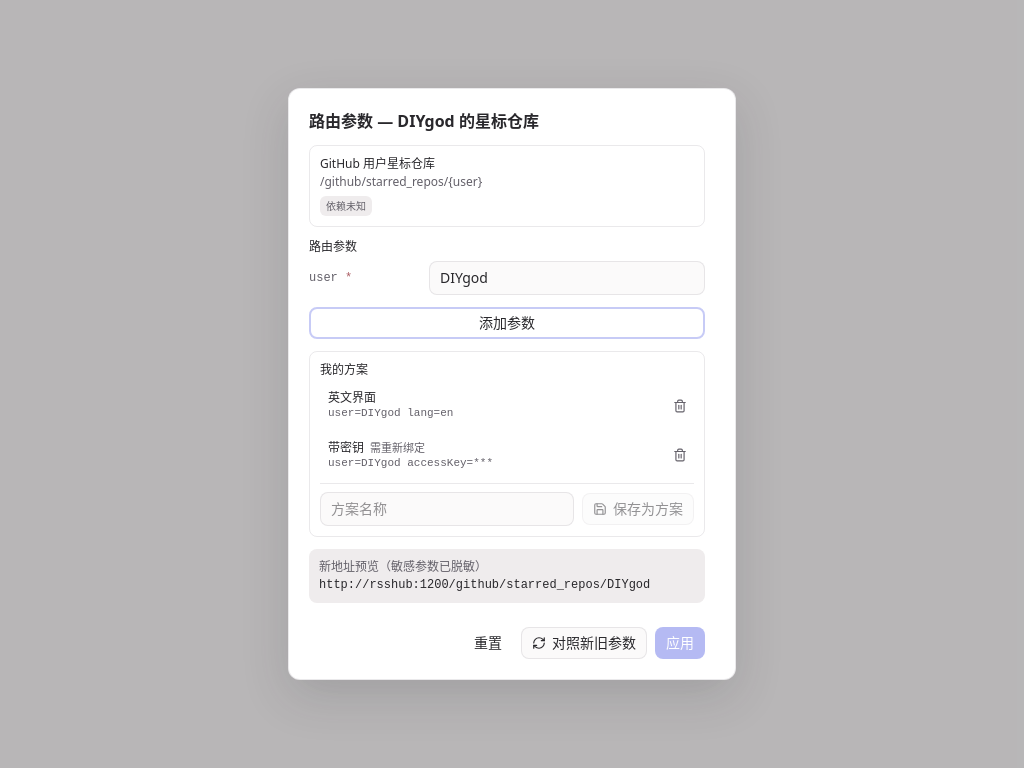
F047 — N030 我的方案 › 应用含敏感参数的方案：哨兵不回填，必须重新输入后才能预览
This screenshot has width=1024, height=768.
Click the text "带密钥" at coordinates (376, 447), box [328, 438, 425, 456]
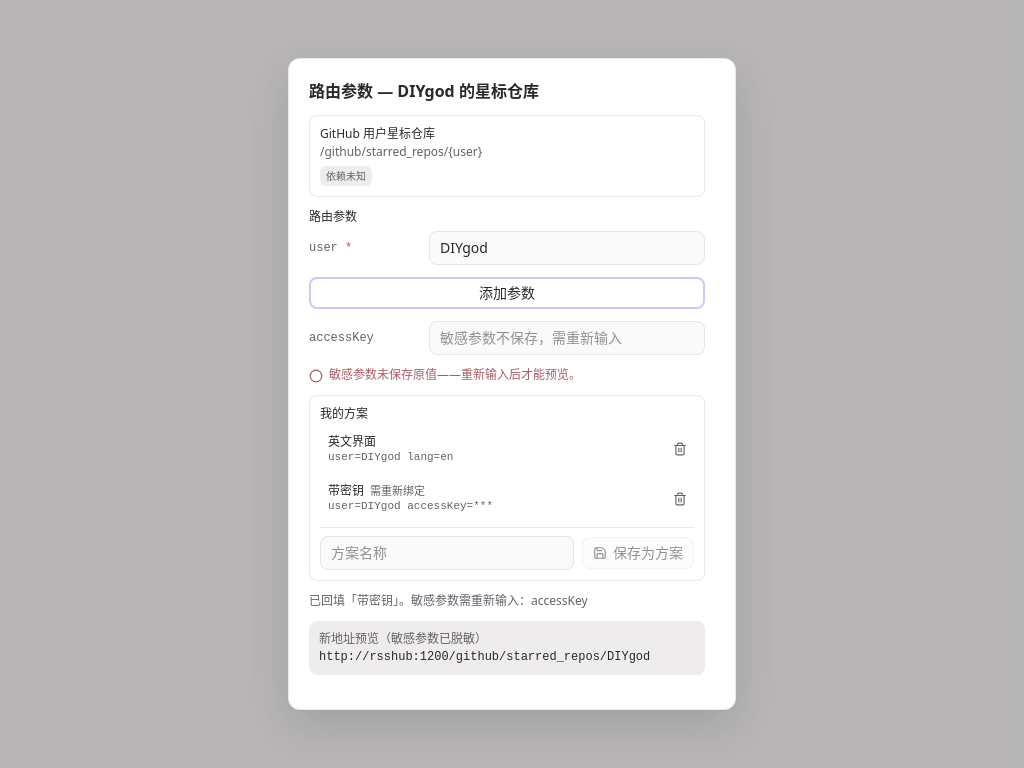
Result: the text "已回填「带密钥」。敏感参数需重新输入：accessKey" is shown at [309, 592, 588, 609]
Result: the field named "重新输入 accessKey" is empty
Result: the message "敏感参数未保存原值——重新输入后才能预览。" is shown at [309, 366, 581, 383]
Type "real-secret" into the field named "重新输入 accessKey" at coordinates (567, 338), box [429, 321, 705, 355]
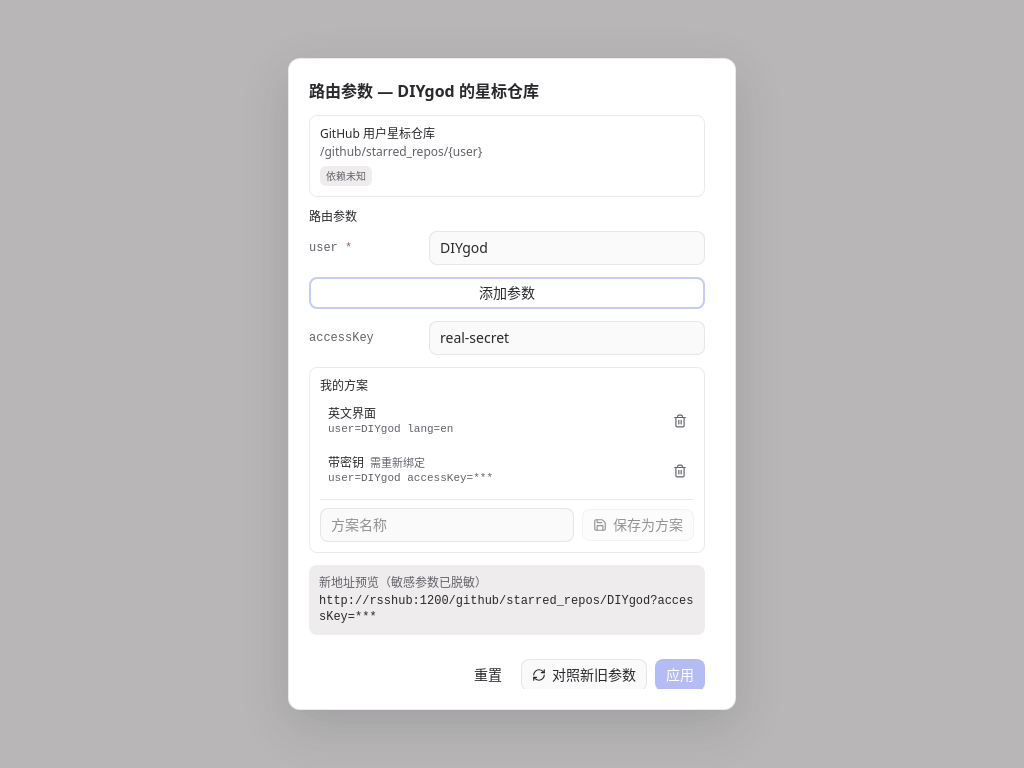
Result: the message "敏感参数未保存原值——重新输入后才能预览。" is gone
